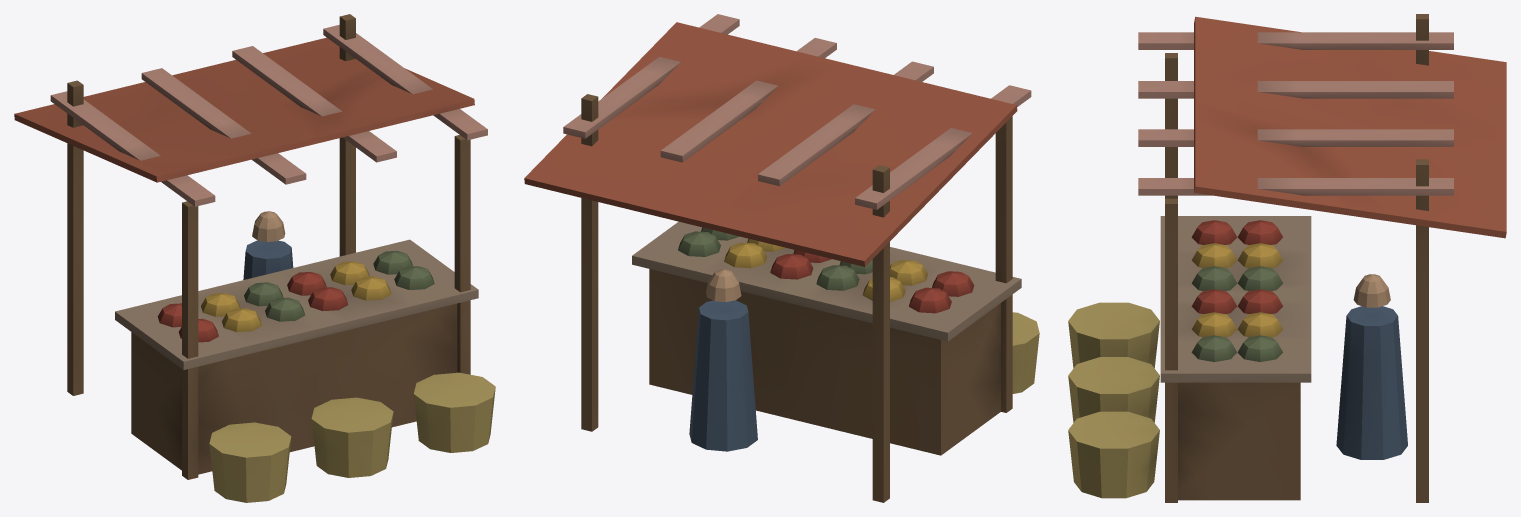
Rendered from stall-fruit.glb.
The picture shows the model from 3 angles, left to right: view 1: azimuth 30°, elevation 25°; view 2: azimuth 150°, elevation 25°; view 3: azimuth 270°, elevation 25°; orthographic projection. The views are drawn at different scales.
Parts seen in each view (by area): view 1: base; view 2: base; view 3: base.
Part boxes in pixels (x1,y1,x2,y2): base: [14, 14, 495, 502]; base: [524, 14, 1039, 502]; base: [1068, 14, 1506, 502].
Size of the model in its own units: 2.8 by 2.6 by 3.06.
